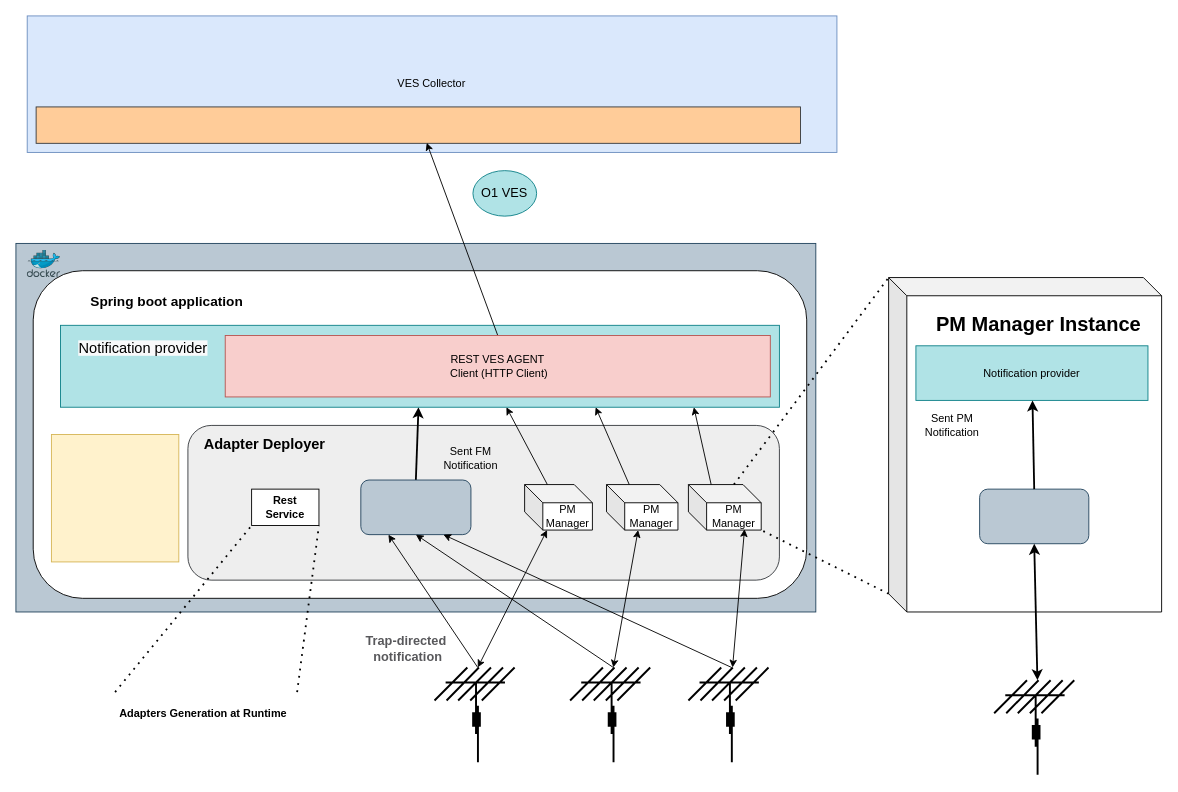
This 1178x792 diagram has some shape labels left out. The shapes that lost their labels are listed below. From the top down, each one's box as (x1, y1, x2, y2) in pixels, then its label:
(35, 106, 801, 143): HTTP Rest
(51, 434, 179, 562): Adapter API (CoreModels & API)
(360, 479, 471, 535): SNMP Manager
(979, 488, 1089, 544): PM File Manager
